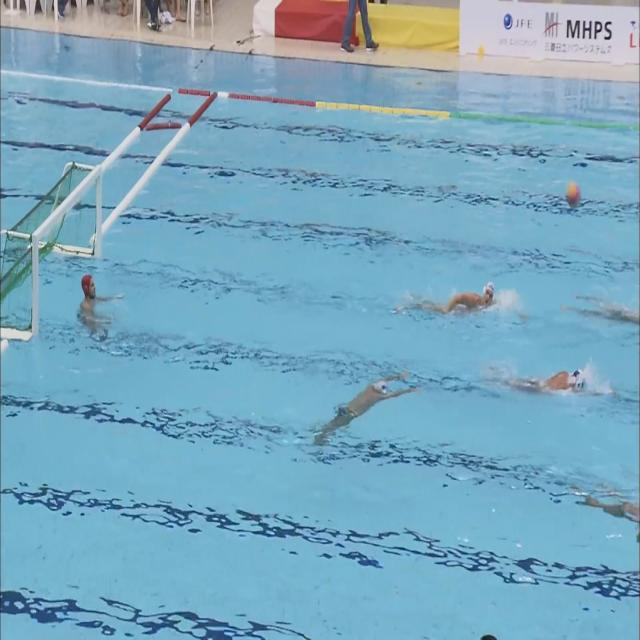ball: (566, 182, 581, 206)
